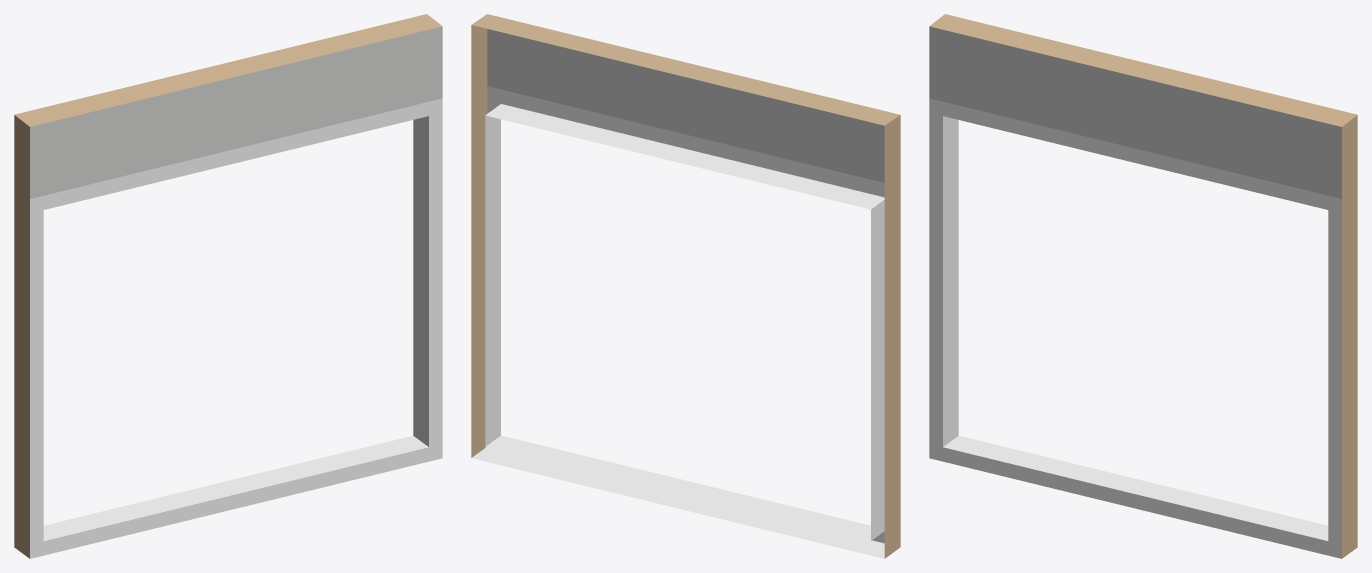
Rendered from buildings_house-wall-door-garage-3x3m.fbx.
3 views of the same model, side by side, from view 1: azimuth 30°, elevation 25°; view 2: azimuth 150°, elevation 25°; view 3: azimuth 330°, elevation 25° (orthographic).
Visible parts, largest first — view 1: buildings_house_wall_door_garage_3x3m; view 2: buildings_house_wall_door_garage_3x3m; view 3: buildings_house_wall_door_garage_3x3m.
Part boxes in pixels (x1,y1,x2,y2): buildings_house_wall_door_garage_3x3m: [14, 14, 442, 558]; buildings_house_wall_door_garage_3x3m: [471, 14, 900, 558]; buildings_house_wall_door_garage_3x3m: [929, 14, 1357, 558].
Size of the model in its own units: 200 by 200 by 13.31.
